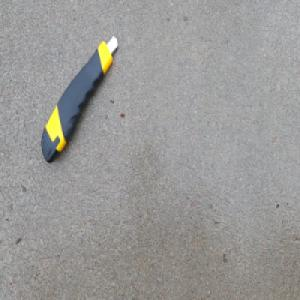Cutter: (41, 33, 120, 163)
